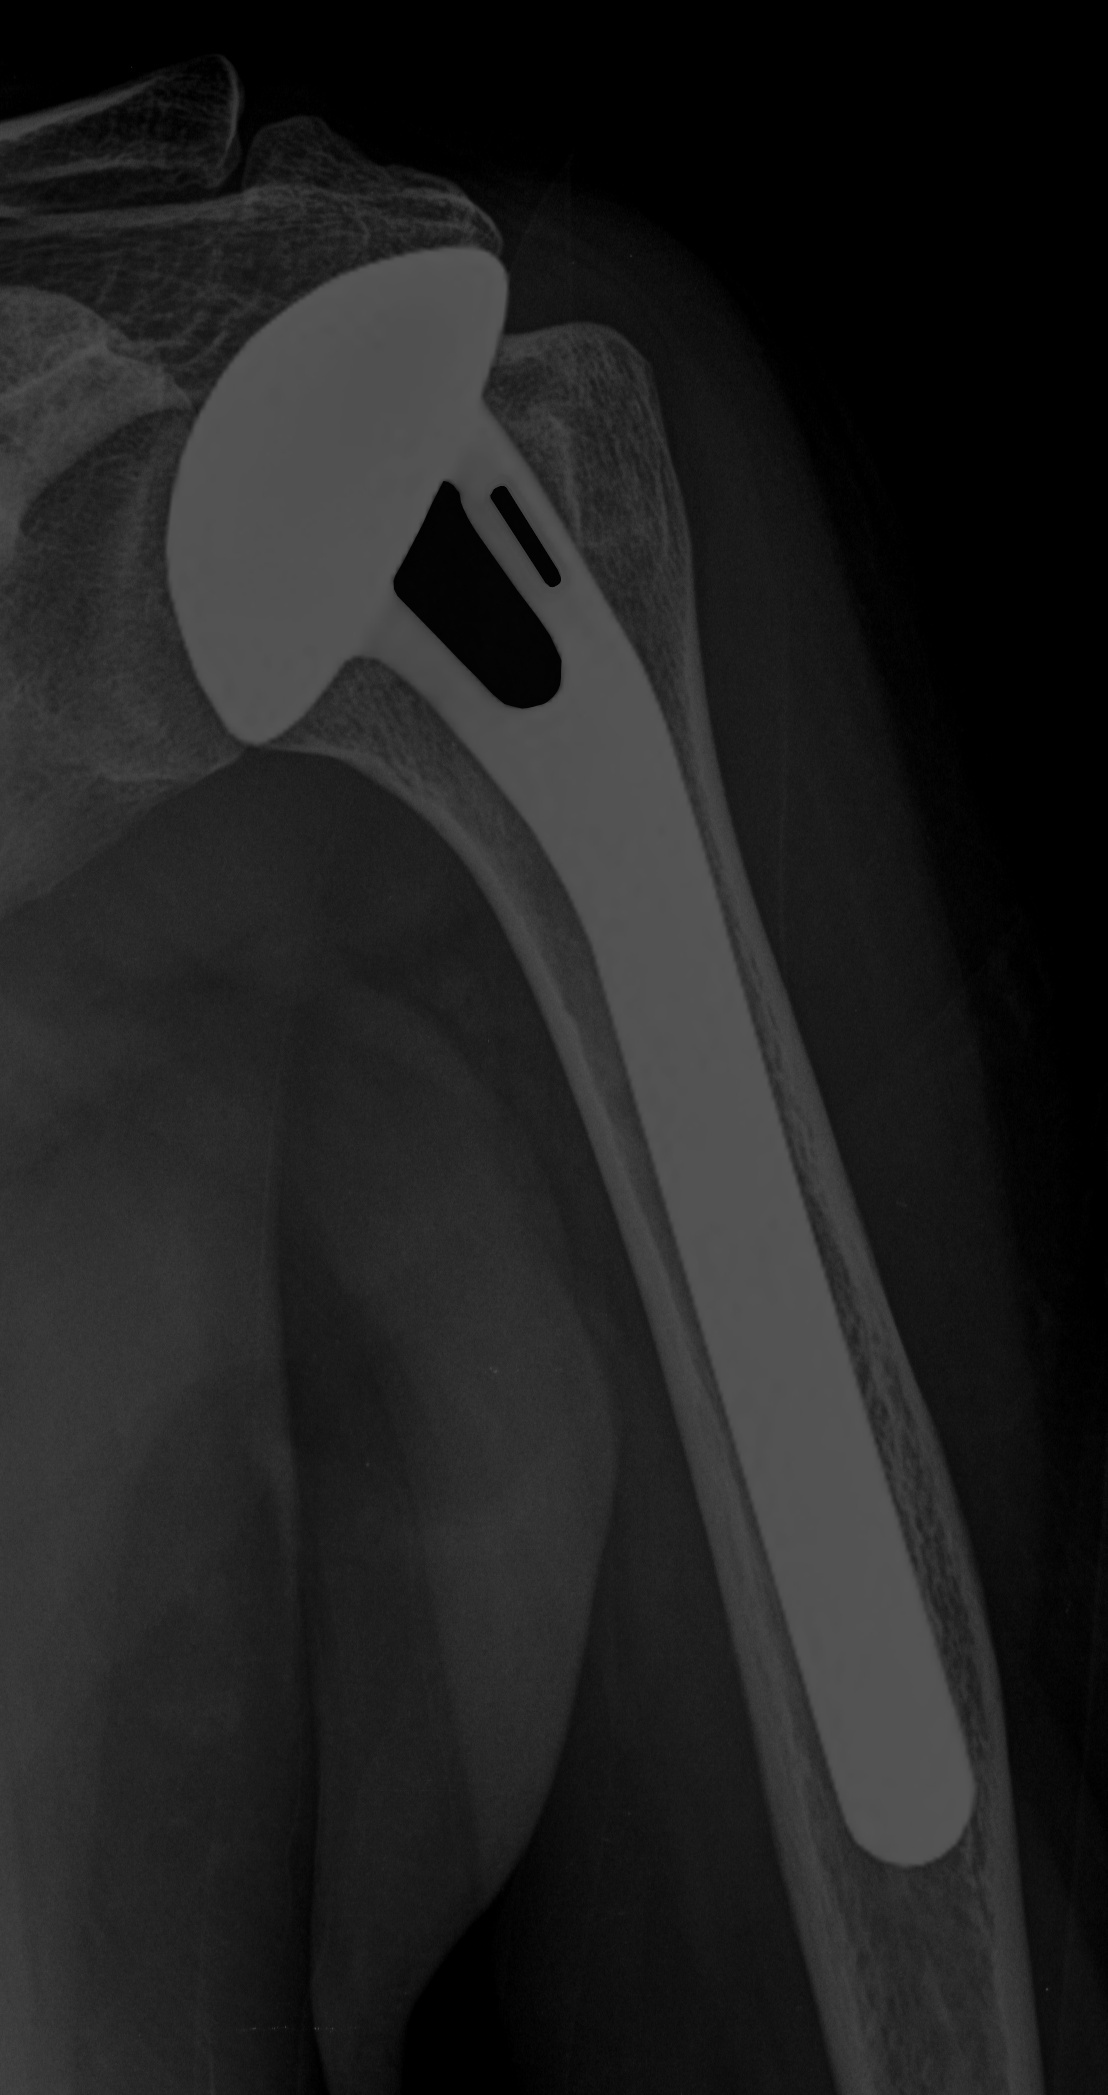Shoulder - AequalisFracture - Tornier: (136, 236, 625, 769)
